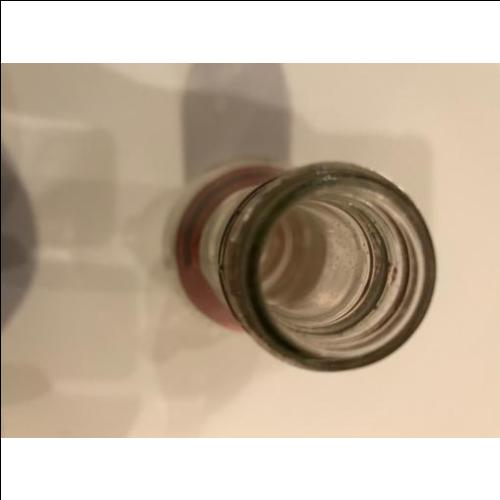glass: (175, 161, 437, 373)
